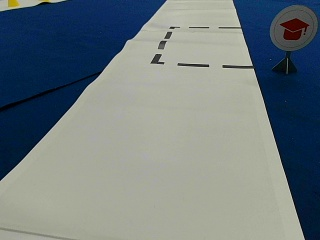school: (269, 5, 317, 50)
